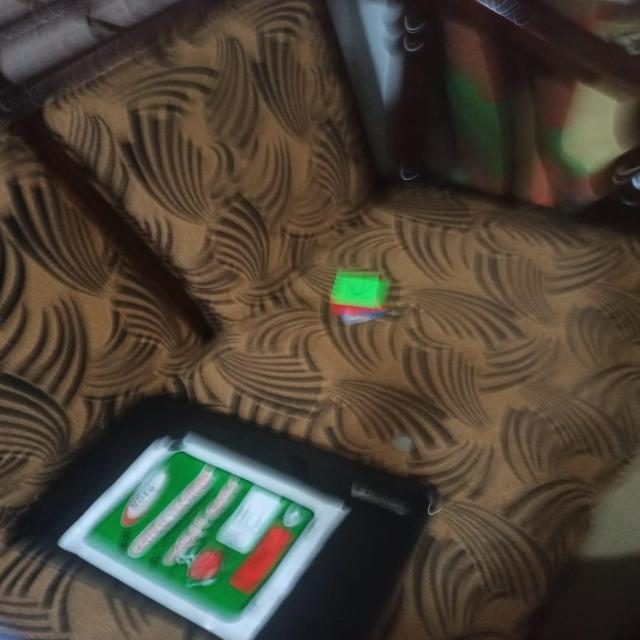Central Tea: (0, 412, 344, 589)
